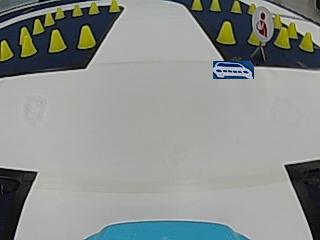cone: (216, 21, 236, 44), (77, 25, 96, 49), (48, 29, 67, 52), (20, 28, 36, 55), (275, 28, 290, 48), (300, 31, 314, 52), (0, 39, 13, 59), (33, 18, 44, 33), (108, 0, 120, 13), (88, 2, 100, 15), (44, 12, 55, 25), (209, 0, 221, 11), (72, 4, 83, 16), (55, 6, 65, 19), (191, 0, 202, 11), (231, 1, 241, 13)
patient: (254, 7, 274, 37)
